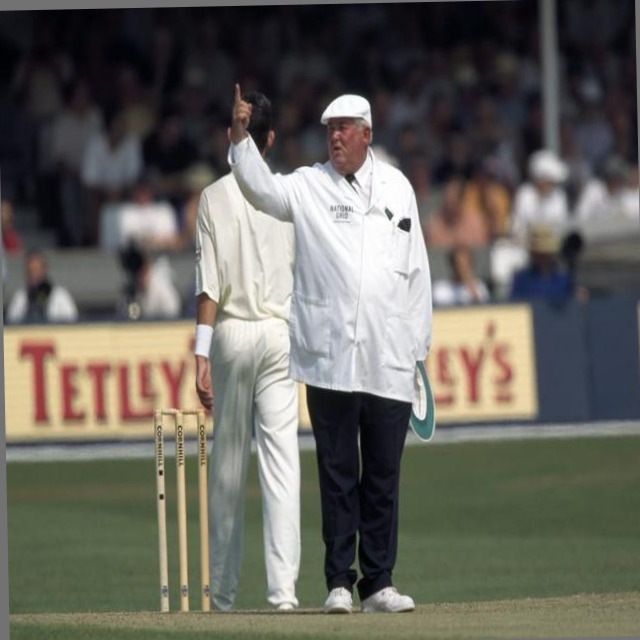Out: (222, 64, 446, 619)
